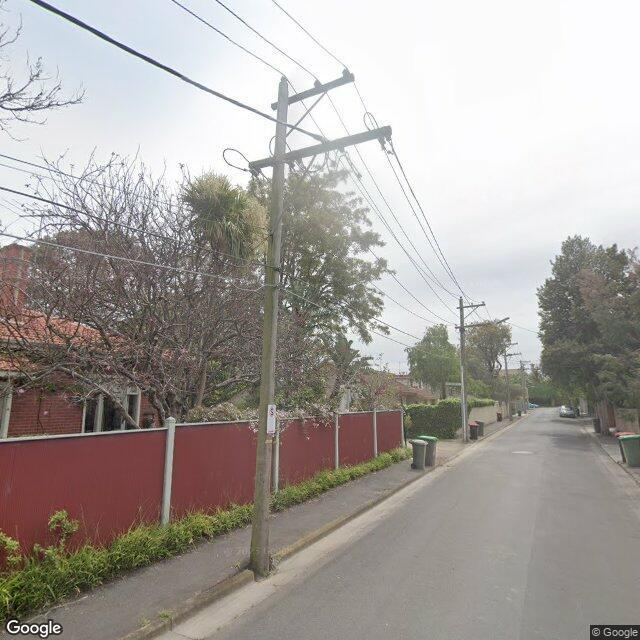HV-transmission: (281, 68, 349, 88), (460, 296, 484, 306)
crossarm: (249, 126, 392, 170), (271, 73, 354, 111), (455, 323, 491, 329), (457, 304, 485, 309), (502, 353, 522, 356), (506, 342, 518, 345), (517, 361, 531, 362)
streetlight: (490, 317, 510, 327)
timber-pole: (250, 82, 288, 577), (459, 299, 468, 443), (505, 350, 510, 420), (520, 360, 526, 414)
